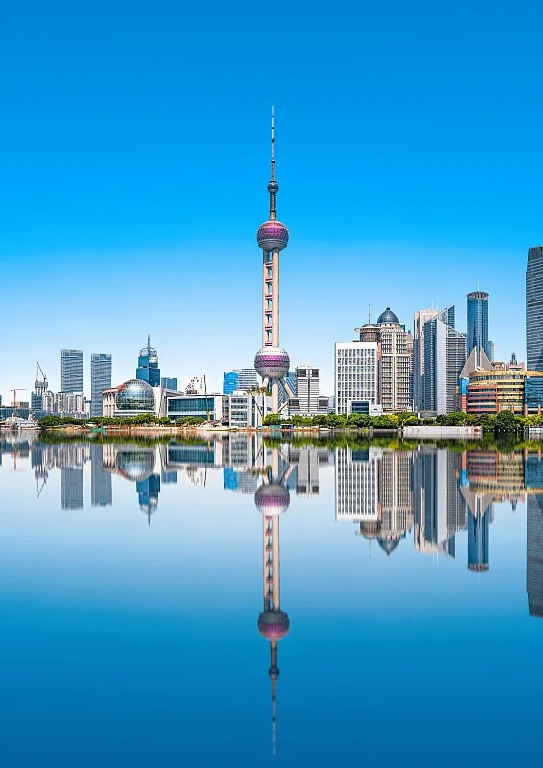Oriental: (253, 107, 296, 412)
